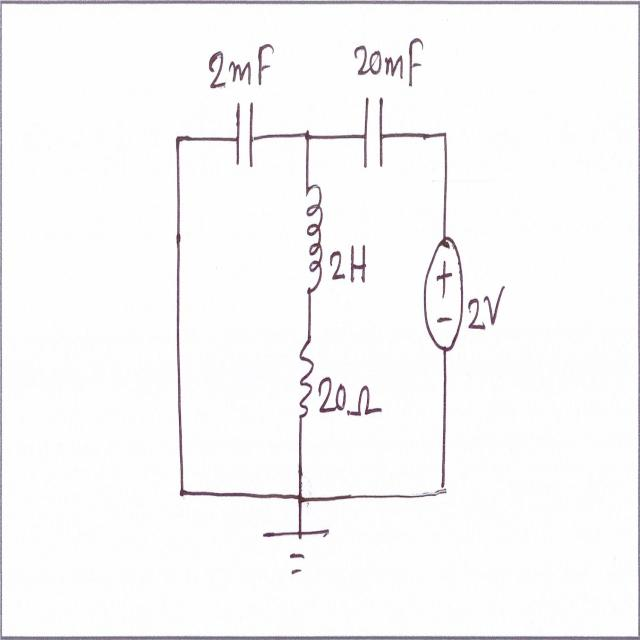capacitor: (229, 87, 258, 178), (359, 87, 387, 181)
ground: (258, 520, 333, 582)
inductor: (301, 176, 329, 304)
resistor: (294, 332, 316, 434)
voltage_source: (420, 220, 466, 358)
